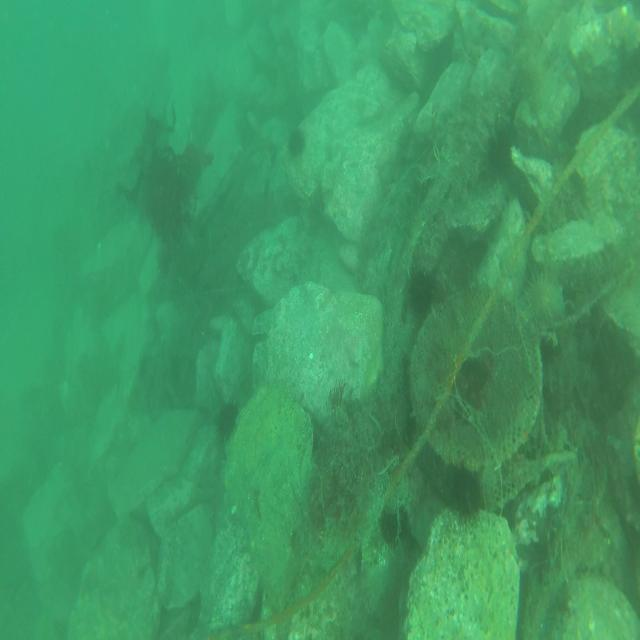echinus: (447, 456, 478, 524), (381, 494, 412, 544), (408, 265, 434, 318), (215, 398, 241, 440), (286, 123, 306, 161)
